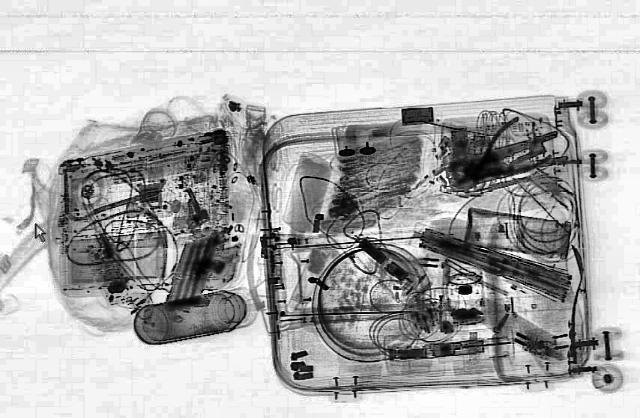Pliers: (435, 114, 571, 200), (440, 129, 580, 189)
